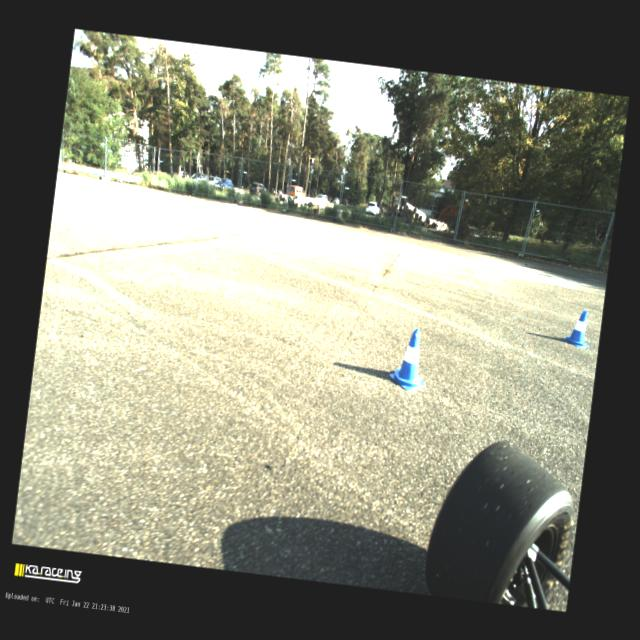blue_cone: (389, 326, 431, 392), (564, 308, 592, 348)
